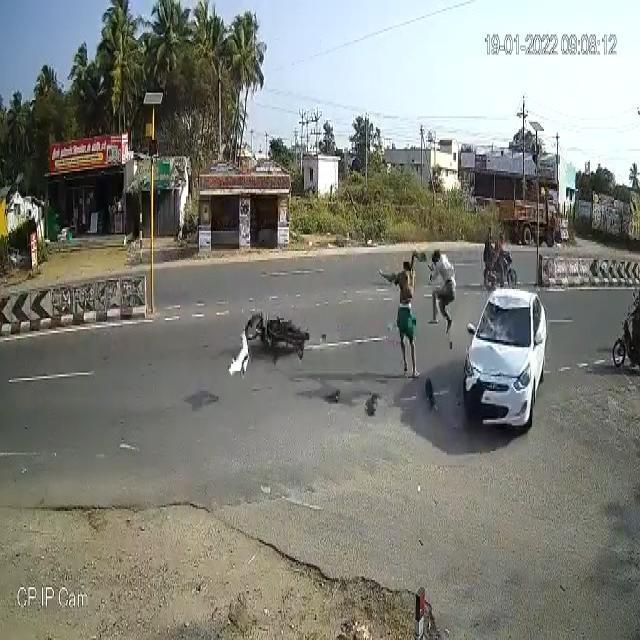accident: (457, 280, 547, 438), (245, 292, 310, 365)
